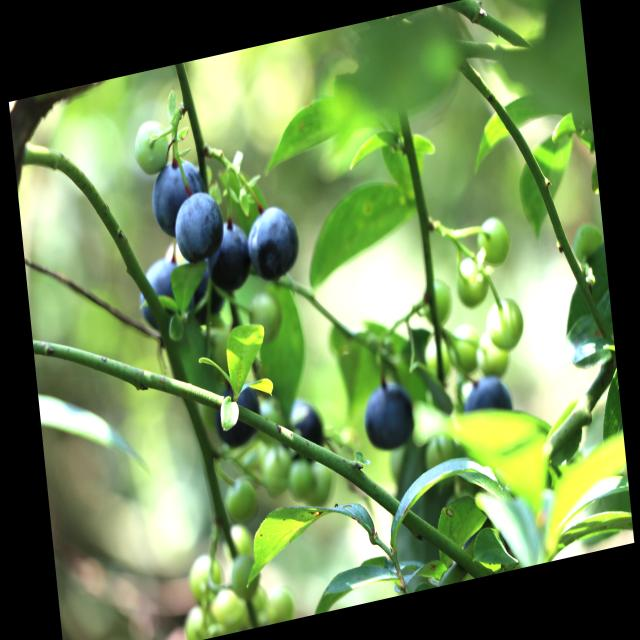blueberry: (240, 199, 306, 286), (147, 148, 210, 237), (356, 374, 418, 462), (133, 250, 189, 331), (172, 184, 226, 266), (214, 372, 264, 451), (206, 219, 253, 295), (183, 255, 227, 325), (458, 369, 515, 423), (284, 395, 327, 458)
blueberry-unripe: (129, 113, 174, 179), (484, 294, 527, 357), (452, 252, 494, 314), (475, 209, 514, 269), (248, 289, 286, 344), (224, 475, 264, 525), (421, 274, 455, 330), (229, 552, 264, 602)
